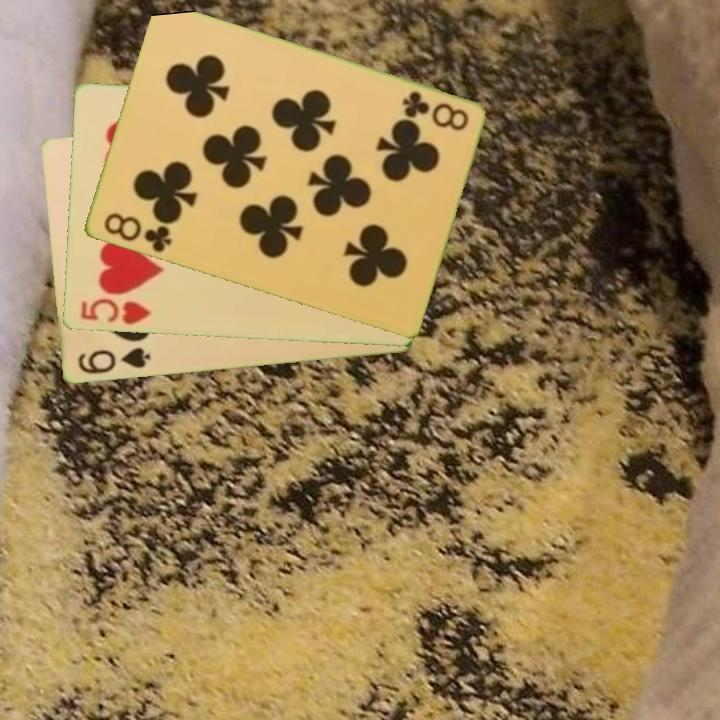5h: (77, 295, 154, 328)
6s: (74, 344, 153, 378)
8c: (100, 209, 174, 256), (398, 88, 471, 134)
